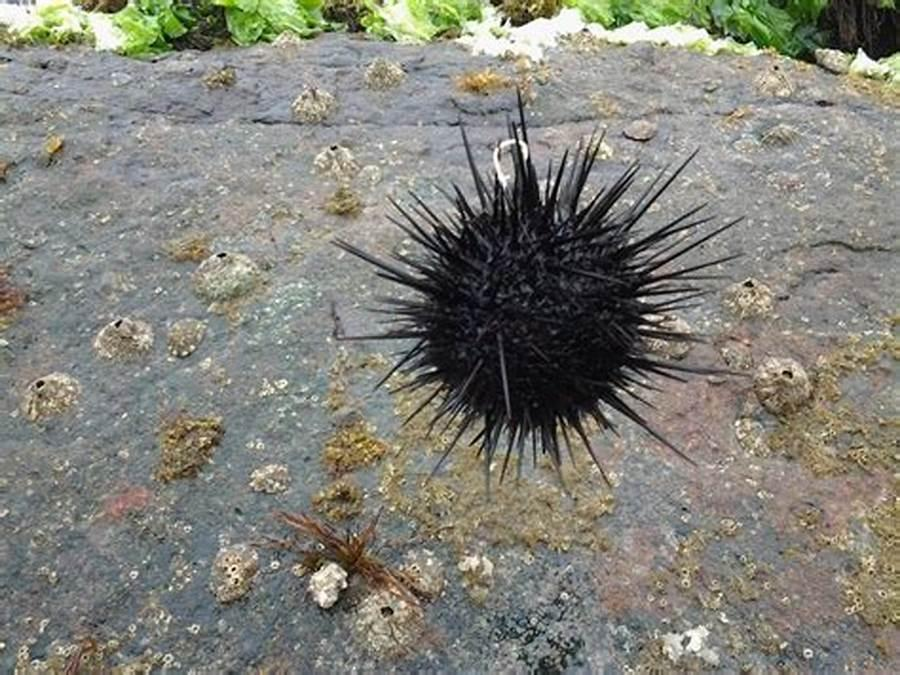urchin: (368, 127, 717, 475)
